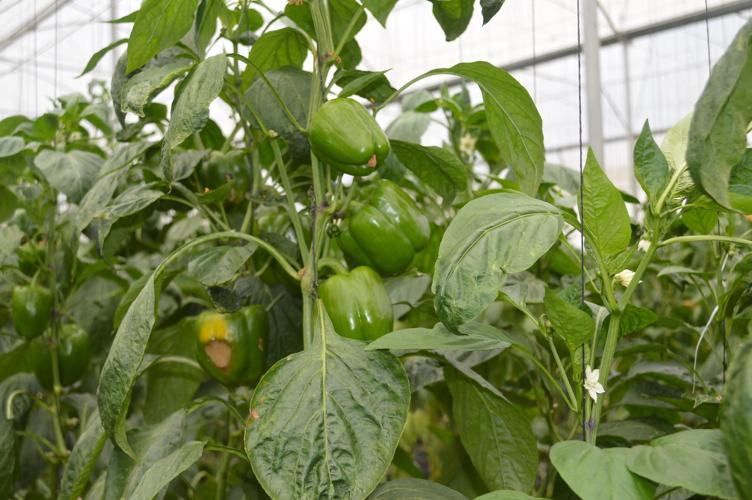BellPepper: (341, 182, 433, 268), (307, 97, 391, 177), (191, 305, 270, 385), (244, 210, 316, 297), (322, 266, 396, 337), (26, 326, 95, 392), (201, 151, 249, 205), (7, 286, 51, 335)
